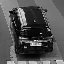motor: (15, 8, 43, 53)
